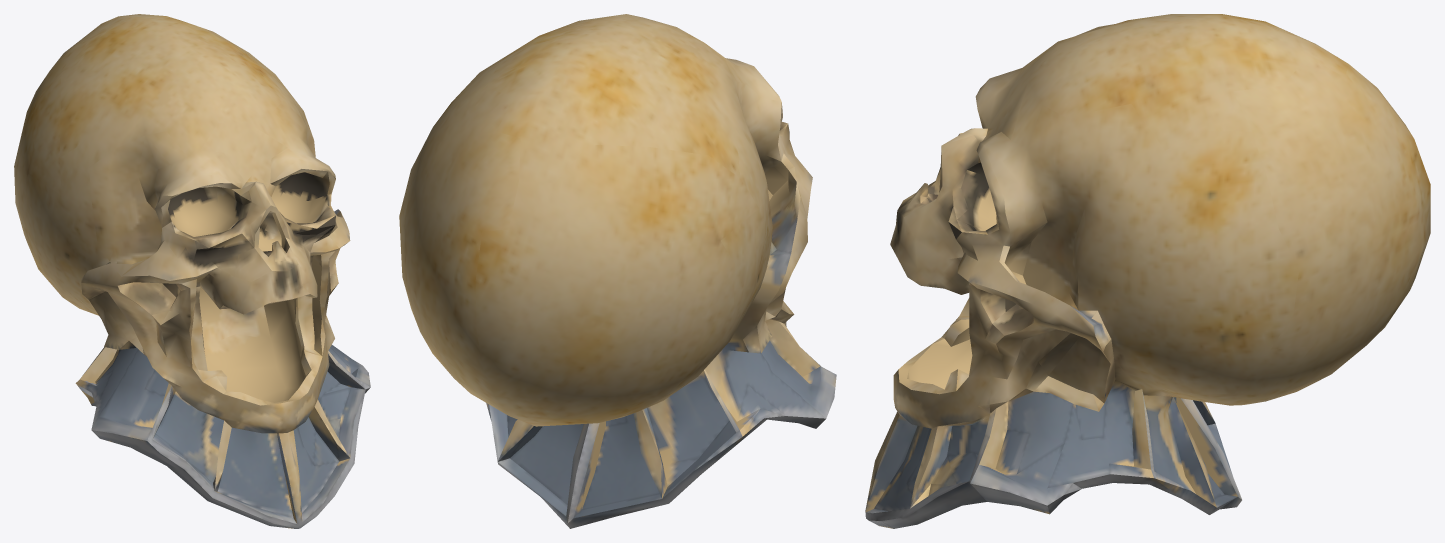
Rendered from item_mm9_10203.glb.
3 views of the same model, side by side, from view 1: azimuth 30°, elevation 25°; view 2: azimuth 150°, elevation 25°; view 3: azimuth 270°, elevation 25° (orthographic). The views are drawn at different scales.
Parts seen in each view (by area): view 1: d10203; view 2: d10203; view 3: d10203.
Part boxes in pixels (<box>): d10203: <box>14,14,370,528</box>; d10203: <box>399,14,836,528</box>; d10203: <box>865,14,1430,528</box>.
Size of the model in its own units: 0.6877 by 0.9765 by 1.
1 material, 1 textured.
